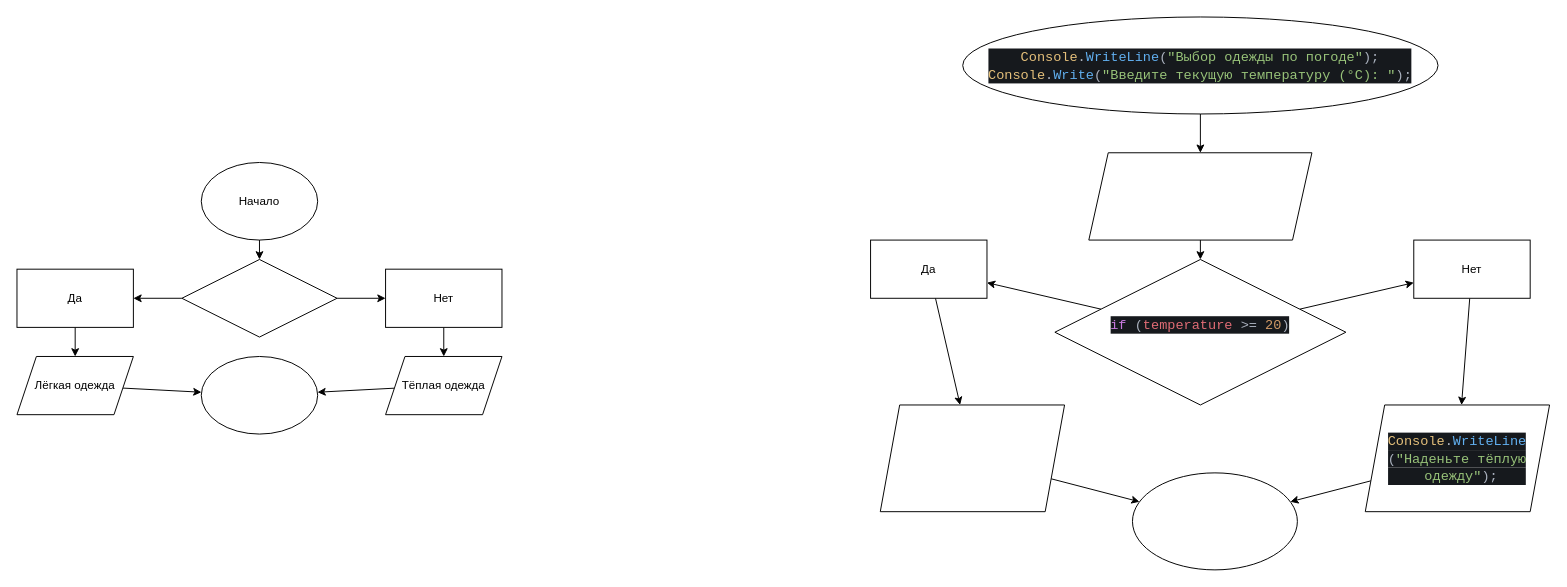
Image size: 1567x587. Some labels were removed from this diagram. Each missing label, with the box of its shape:
Console . WriteLine ( "Наденьте лёгкую одежду" );: (879, 404, 1065, 512)
Console . WriteLine ( "Хорошего дня!" );: (1132, 472, 1297, 570)
int temperature = Convert . ToInt32 ( Console . ReadLine ());: (1088, 152, 1312, 240)
Конец: (200, 356, 318, 434)
Температура ≥ 20°C?: (181, 259, 337, 337)
